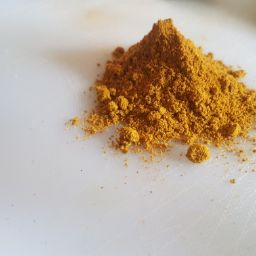Curry powder: (67, 18, 256, 185), (80, 12, 256, 190), (62, 74, 256, 193)
